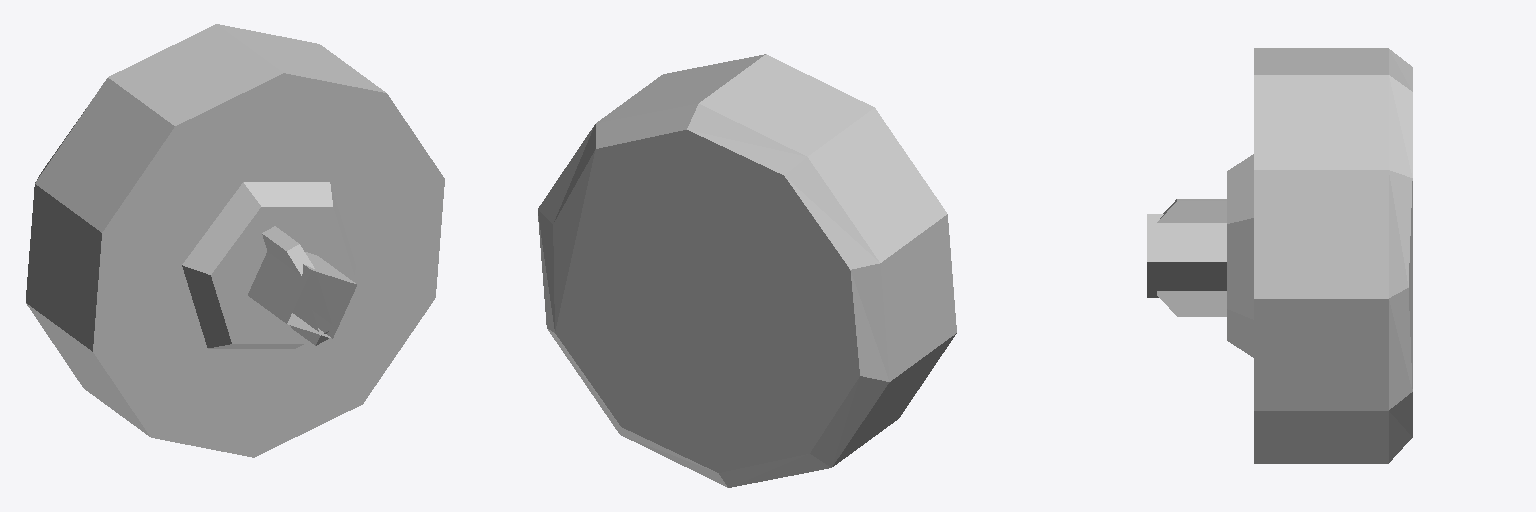
File: wheel184.obj
3 renders of one model, left to right at view 1: azimuth 30°, elevation 25°; view 2: azimuth 150°, elevation 25°; view 3: azimuth 270°, elevation 25°, orthographic.
Parts seen in each view (by area): view 1: wheel_low_textures; view 2: wheel_low_textures; view 3: wheel_low_textures.
Part boxes in pixels (x1,y1,x2,y2): wheel_low_textures: (26,24,444,457); wheel_low_textures: (538,54,956,487); wheel_low_textures: (1147,48,1412,463).
Size of the model in its own units: 1.52 by 1.56 by 0.9907.